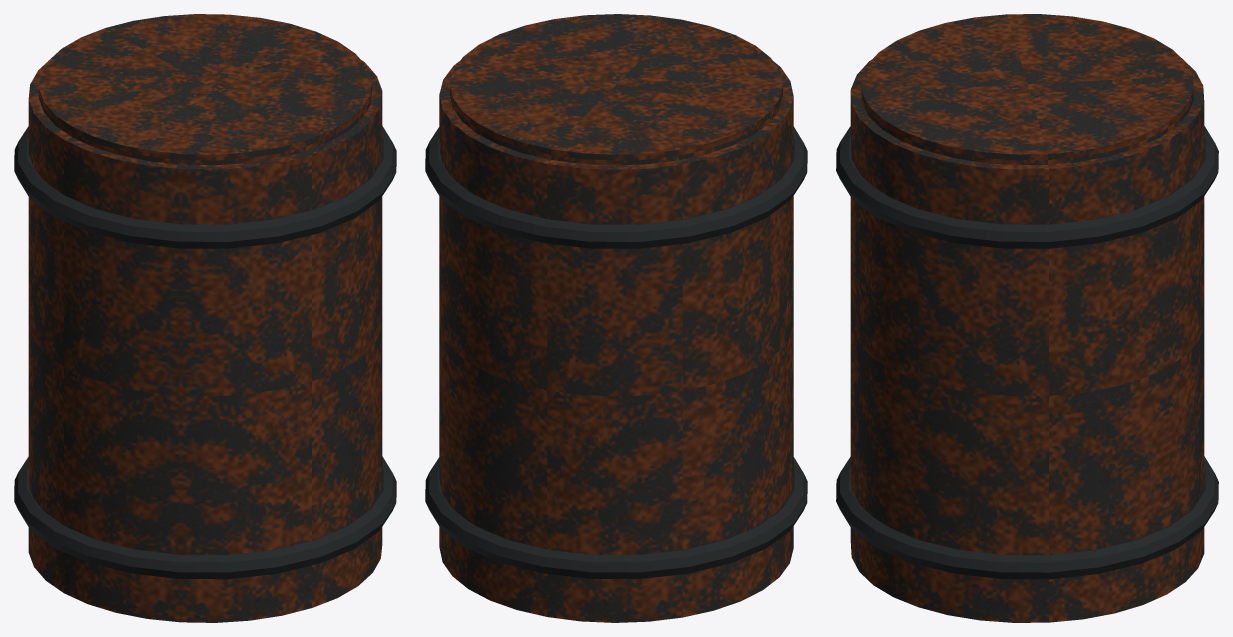
Rendered from SM_Barrel_6ad461f42e.fbx.
3 renders of one model, left to right at view 1: azimuth 30°, elevation 25°; view 2: azimuth 150°, elevation 25°; view 3: azimuth 270°, elevation 25°, orthographic.
Visible parts, largest first — view 1: SM_Barrel_6ad461f42e; view 2: SM_Barrel_6ad461f42e; view 3: SM_Barrel_6ad461f42e.
Part boxes in pixels (x1,y1,x2,y2): SM_Barrel_6ad461f42e: [14, 14, 396, 622]; SM_Barrel_6ad461f42e: [425, 14, 807, 622]; SM_Barrel_6ad461f42e: [836, 14, 1218, 622].
Size of what is drawn, in the model's own units: 73.45 by 73.45 by 98.25.
Materials: 2 (1 with a texture image).
